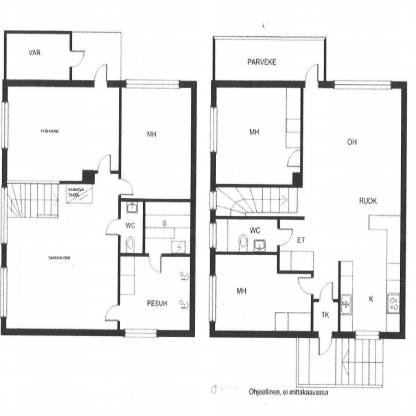door: (296, 274, 314, 296), (286, 148, 303, 169), (117, 177, 134, 198), (105, 304, 121, 326), (304, 63, 318, 88), (318, 330, 331, 355), (148, 253, 164, 273), (320, 280, 335, 301), (104, 219, 121, 236), (95, 64, 108, 86), (278, 229, 292, 247), (98, 155, 111, 173), (71, 51, 85, 65)
window: (126, 78, 178, 88), (332, 80, 390, 88), (2, 187, 9, 244), (209, 275, 216, 322), (1, 268, 7, 316), (1, 102, 7, 148), (211, 107, 217, 152), (125, 329, 156, 336), (210, 223, 216, 246), (209, 192, 216, 210)
zone: (217, 87, 400, 333), (9, 173, 118, 331), (9, 86, 118, 179), (216, 88, 302, 186), (121, 87, 190, 198), (216, 255, 312, 331), (120, 256, 189, 331), (216, 39, 324, 81), (296, 336, 381, 386), (7, 32, 70, 81), (72, 30, 121, 80), (144, 202, 189, 255), (217, 218, 278, 250), (121, 200, 142, 253), (312, 299, 338, 331)
